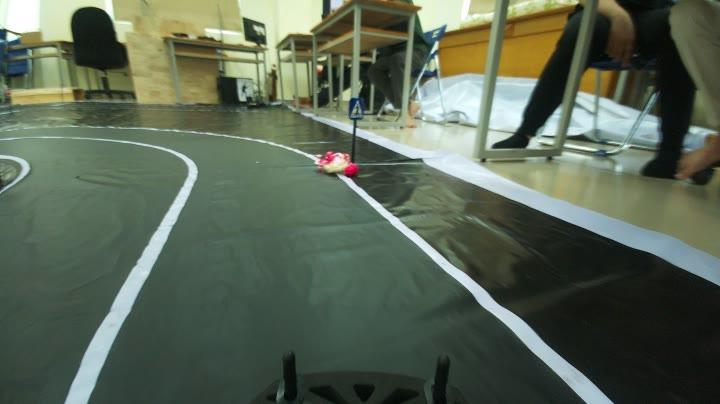crosswalk: (342, 95, 371, 126)
